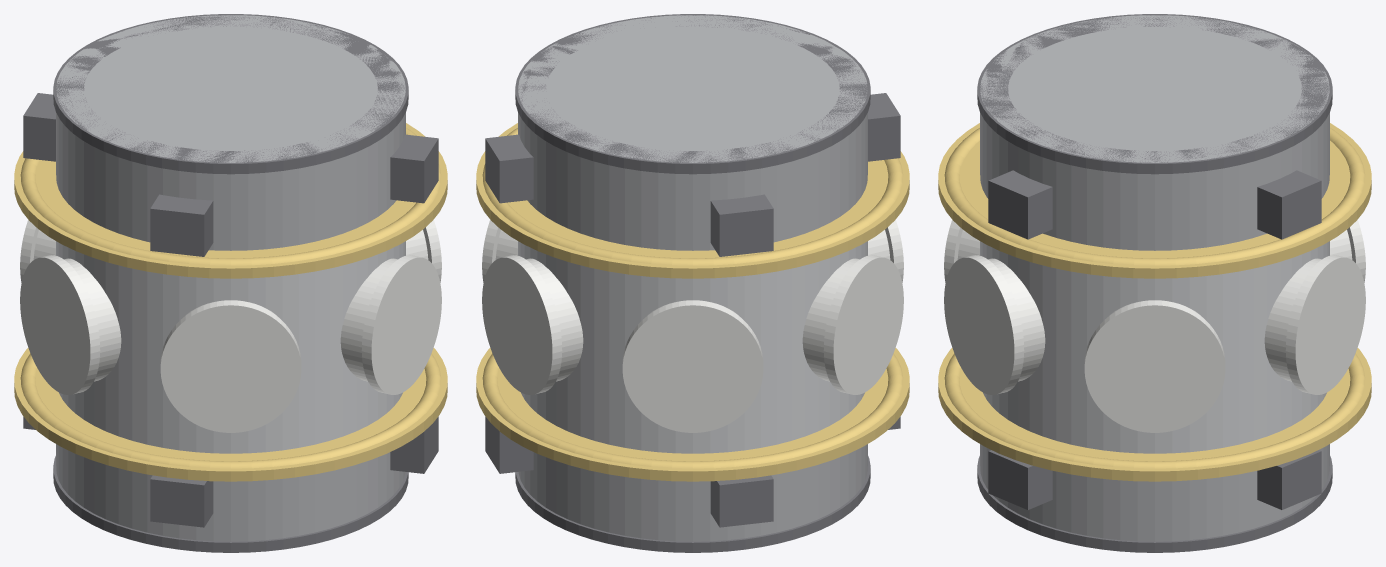
Rendered from station09_spin_hub.glb.
3 views of the same model, side by side, from view 1: azimuth 30°, elevation 25°; view 2: azimuth 150°, elevation 25°; view 3: azimuth 270°, elevation 25° (orthographic).
Visible parts, largest first — view 1: stator_upper, spoke_ports, bearings_sliprings, rotor_drum, end_rings, stator_lower, spin_motors; view 2: stator_upper, spoke_ports, bearings_sliprings, rotor_drum, stator_lower, end_rings, spin_motors; view 3: stator_upper, spoke_ports, bearings_sliprings, rotor_drum, end_rings, stator_lower, spin_motors.
Part boxes in pixels (box(x1,y1,x2,y2)): stator_upper: box(56, 15, 405, 250); spoke_ports: box(20, 219, 441, 432); bearings_sliprings: box(14, 123, 447, 481); rotor_drum: box(56, 241, 405, 453); end_rings: box(53, 14, 408, 552); stator_lower: box(56, 444, 405, 541); spin_motors: box(23, 93, 438, 527); stator_upper: box(518, 15, 867, 250); spoke_ports: box(482, 219, 903, 432); bearings_sliprings: box(476, 123, 909, 481); rotor_drum: box(518, 241, 867, 453); stator_lower: box(518, 444, 867, 541); end_rings: box(515, 14, 870, 552); spin_motors: box(485, 93, 900, 527); stator_upper: box(980, 15, 1329, 250); spoke_ports: box(944, 219, 1365, 432); bearings_sliprings: box(938, 123, 1371, 481); rotor_drum: box(980, 241, 1329, 453); end_rings: box(977, 14, 1332, 552); stator_lower: box(980, 444, 1329, 541); spin_motors: box(988, 170, 1321, 509).
Size of the model in its own units: 4.65 by 4.6 by 4.65.
